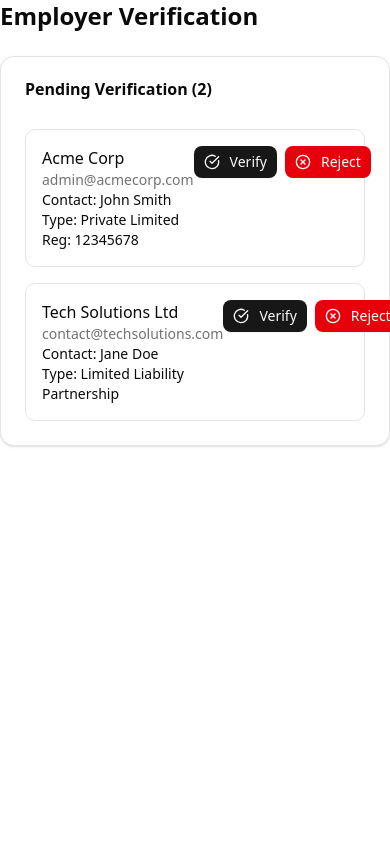
it: EmployerVerification › opens reject dialog when clicking Reject button
The image size is (390, 844).
Note: Click first Reject button
Click the button "Reject" in the row of "admin@acmecorp.com".
click(328, 162)  # box x1=285 y1=146 x2=371 y2=178
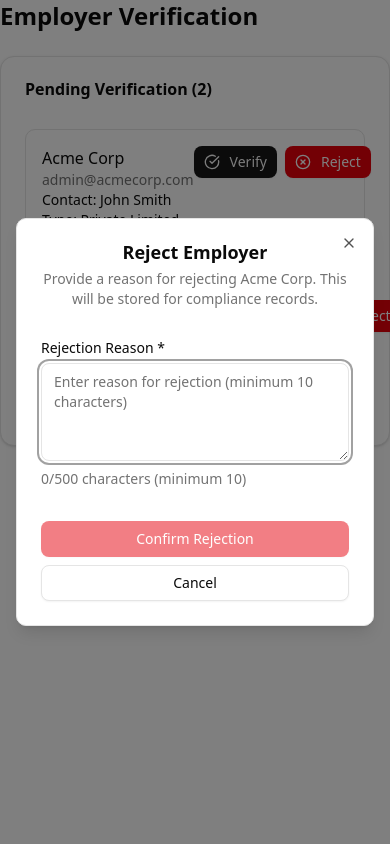
Now the heading "Reject Employer" is shown, box x1=123 y1=240 x2=268 y2=264
Now the text "Provide a reason for rejecting Acme Corp" is shown, box x1=41 y1=269 x2=349 y2=309
Now the text box labelled "Rejection Reason *" is shown, box x1=41 y1=363 x2=349 y2=461
